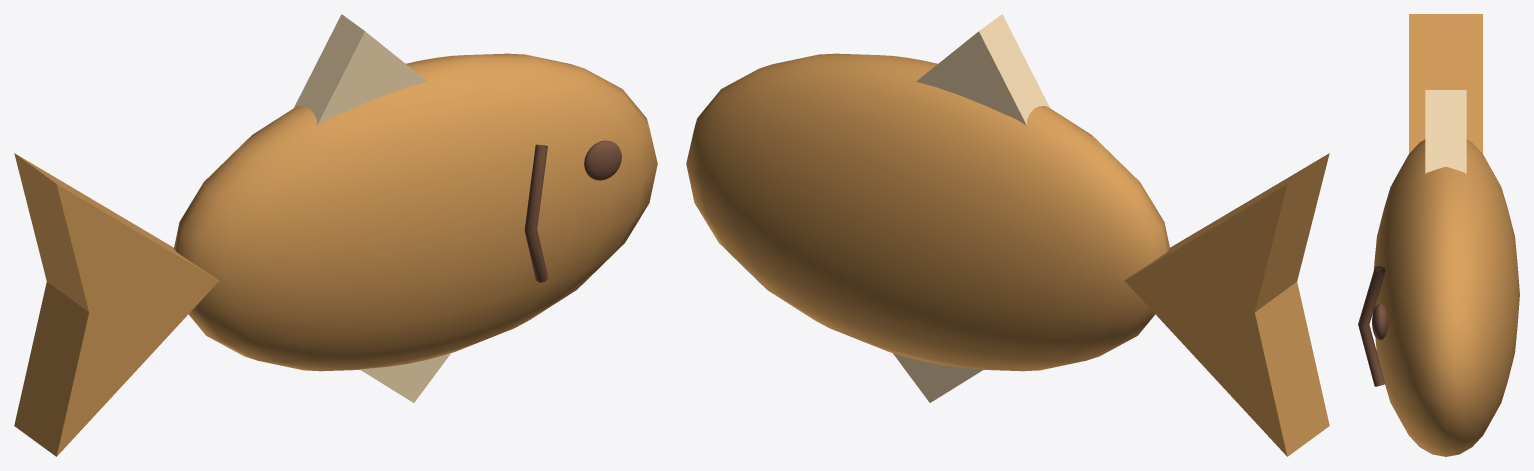
The model's file is fish.glb.
3 renders of one model, left to right at view 1: azimuth 30°, elevation 25°; view 2: azimuth 150°, elevation 25°; view 3: azimuth 270°, elevation 25°, orthographic. The views are drawn at different scales.
Visible parts, largest first — view 1: Golden dried fish, Forked tail, Top fin, Bottom fin, Gill, Fish eye; view 2: Golden dried fish, Forked tail, Top fin, Bottom fin; view 3: Golden dried fish, Forked tail, Top fin, Gill, Fish eye.
Boxes of the visible parts, bbox=[...] form: Golden dried fish: bbox=[174, 53, 657, 371]; Forked tail: bbox=[14, 153, 219, 456]; Top fin: bbox=[294, 14, 427, 125]; Bottom fin: bbox=[360, 352, 451, 402]; Gill: bbox=[524, 144, 547, 282]; Fish eye: bbox=[584, 140, 621, 180]; Golden dried fish: bbox=[686, 53, 1169, 371]; Forked tail: bbox=[1124, 153, 1329, 456]; Top fin: bbox=[916, 14, 1049, 125]; Bottom fin: bbox=[892, 352, 983, 402]; Golden dried fish: bbox=[1373, 139, 1519, 456]; Forked tail: bbox=[1409, 14, 1482, 153]; Top fin: bbox=[1425, 90, 1466, 173]; Gill: bbox=[1358, 266, 1385, 386]; Fish eye: bbox=[1372, 303, 1388, 340].
Size of the model in its own units: 0.152 by 0.09 by 0.0394.
